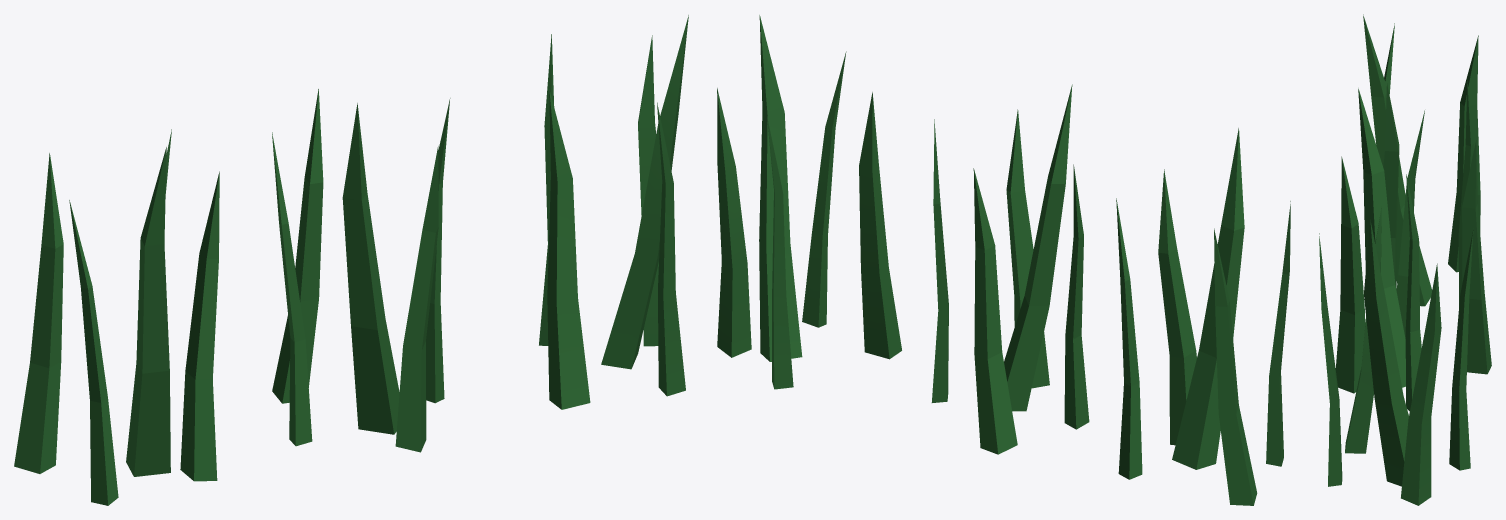
Rendered from 043 River_Grass.FBX.
3 renders of one model, left to right at view 1: azimuth 30°, elevation 25°; view 2: azimuth 150°, elevation 25°; view 3: azimuth 270°, elevation 25°, orthographic. The views are drawn at different scales.
Parts seen in each view (by area): view 1: Grass_069; view 2: Grass_069; view 3: Grass_069.
Part boxes in pixels (left/top/right/bottom): Grass_069: left=14, top=15, right=688, bottom=505; Grass_069: left=717, top=15, right=1290, bottom=505; Grass_069: left=1319, top=14, right=1491, bottom=505.
Size of the model in its own units: 397 by 212 by 119.
